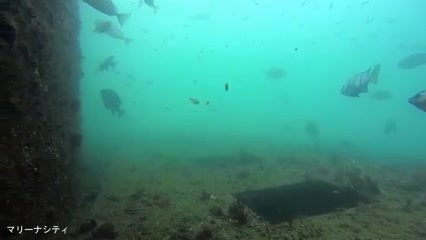smallfish: (337, 60, 387, 104), (96, 86, 131, 119)
